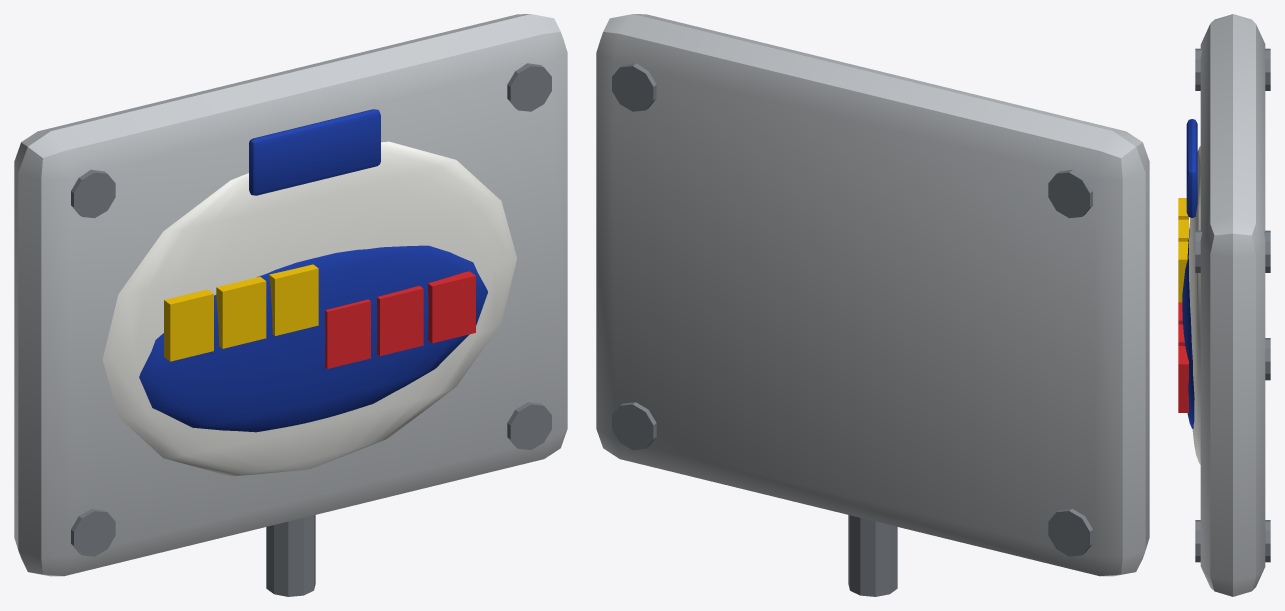
3 renders of one model, left to right at view 1: azimuth 30°, elevation 25°; view 2: azimuth 150°, elevation 25°; view 3: azimuth 270°, elevation 25°, orthographic. The views are drawn at different scales.
Visible parts, largest first — view 1: M-63; view 2: M-63; view 3: M-63.
Part boxes in pixels (box(x1,y1,x2,y2)): M-63: box(14, 14, 567, 596); M-63: box(596, 14, 1149, 596); M-63: box(1178, 14, 1270, 596).
Size of the model in its own units: 0.05 by 0.045 by 0.0086.
